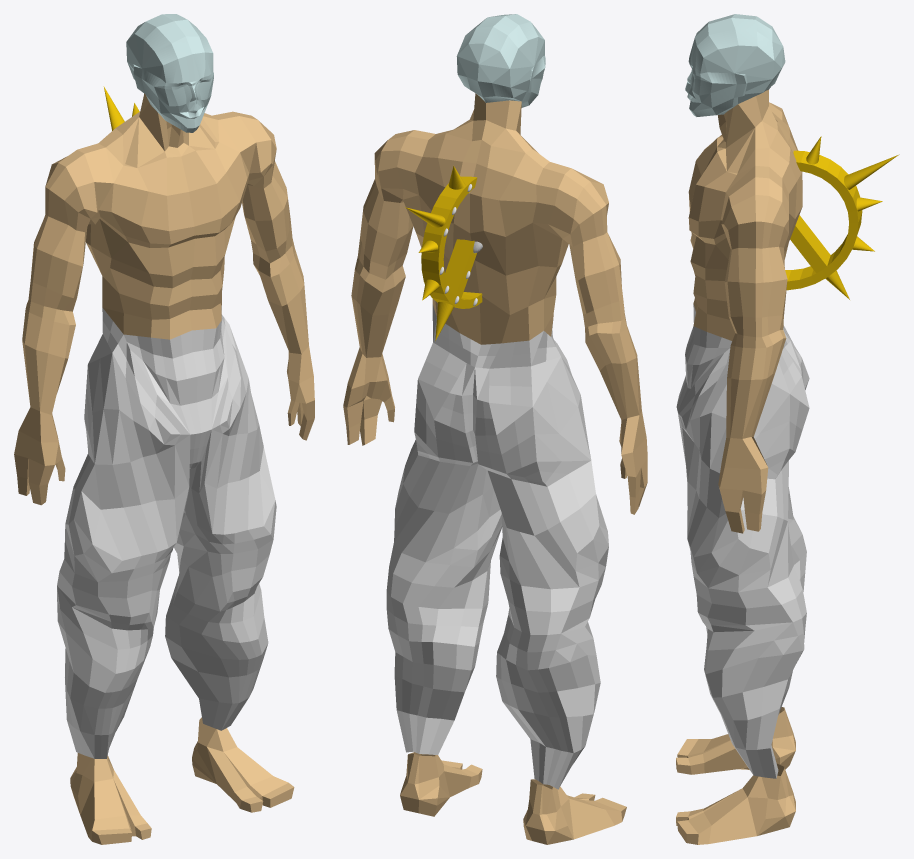
File: enemigo2.0(1).fbx
The picture shows the model from 3 angles, left to right: view 1: azimuth 30°, elevation 25°; view 2: azimuth 150°, elevation 25°; view 3: azimuth 270°, elevation 25°; orthographic projection.
Visible parts, largest first — view 1: Cuerpo.001, Cuerpo, Cuerpo.002; view 2: Cuerpo.001, Cuerpo, Cuerpo.002, Cone.001; view 3: Cuerpo, Cuerpo.001, Cuerpo.002, Cone.001.
Boxes of the visible parts, bbox=[...] form: Cuerpo.001: bbox=[57, 308, 276, 758]; Cuerpo: bbox=[14, 93, 314, 844]; Cuerpo.002: bbox=[126, 14, 213, 132]; Cuerpo.001: bbox=[386, 304, 608, 789]; Cuerpo: bbox=[343, 93, 647, 844]; Cuerpo.002: bbox=[456, 14, 545, 107]; Cone.001: bbox=[405, 166, 482, 340]; Cuerpo: bbox=[676, 89, 802, 844]; Cuerpo.001: bbox=[676, 304, 809, 778]; Cuerpo.002: bbox=[685, 14, 785, 116]; Cone.001: bbox=[785, 136, 899, 299].
Size of the model in its own units: 77.45 by 201 by 52.25.
